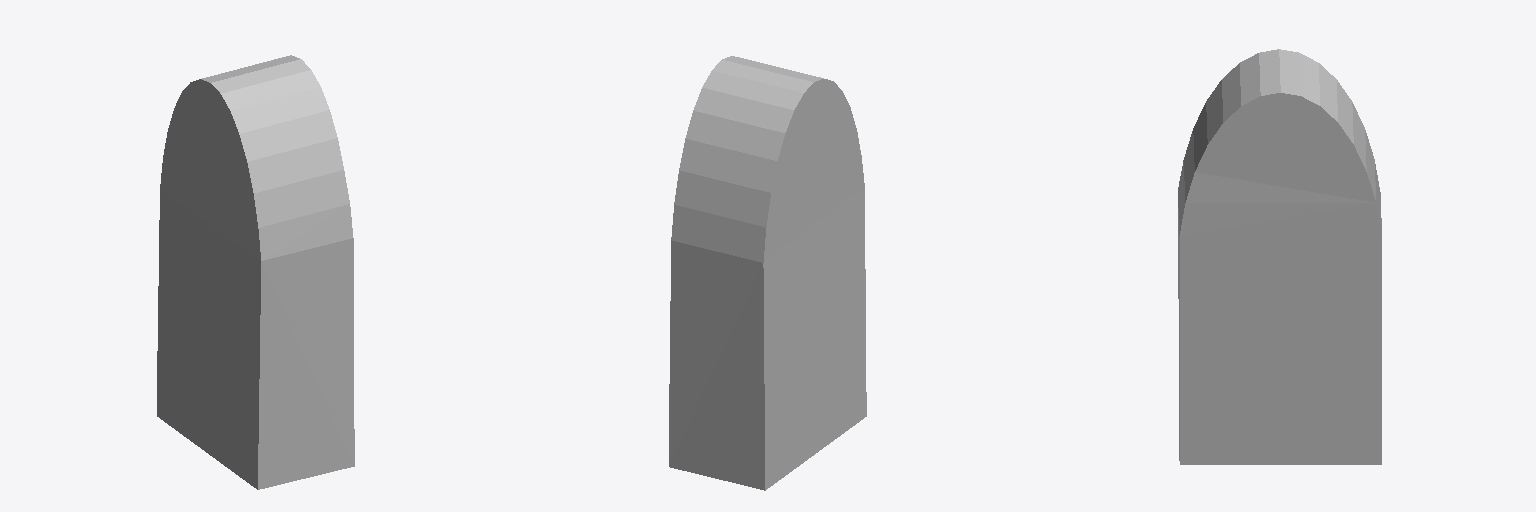
The model's file is Gravestone.obj.
3 views of the same model, side by side, from view 1: azimuth 30°, elevation 25°; view 2: azimuth 150°, elevation 25°; view 3: azimuth 270°, elevation 25° (orthographic).
Visible parts, largest first — view 1: Cube_Cube.001; view 2: Cube_Cube.001; view 3: Cube_Cube.001.
Boxes of the visible parts, <box> form: Cube_Cube.001: <box>157,55,354,489</box>; Cube_Cube.001: <box>669,56,866,490</box>; Cube_Cube.001: <box>1178,49,1381,464</box>.
Bounding box in the file's own units: 0.6218 × 2.28 × 1.14.